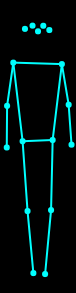mountain: (3, 19, 76, 279)
